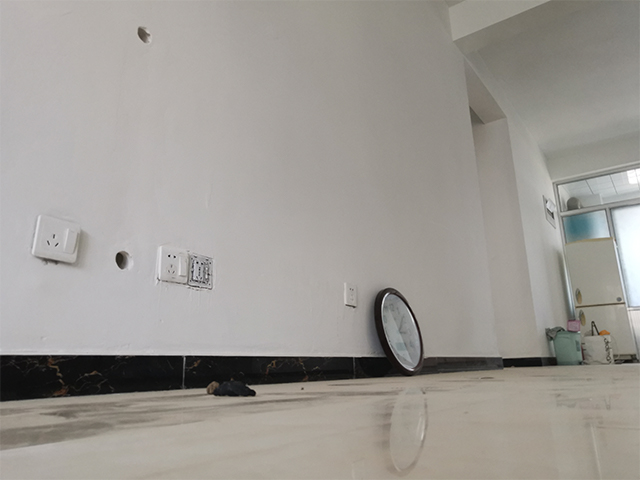feces: (204, 377, 258, 398)
trashcan: (550, 329, 585, 367)
